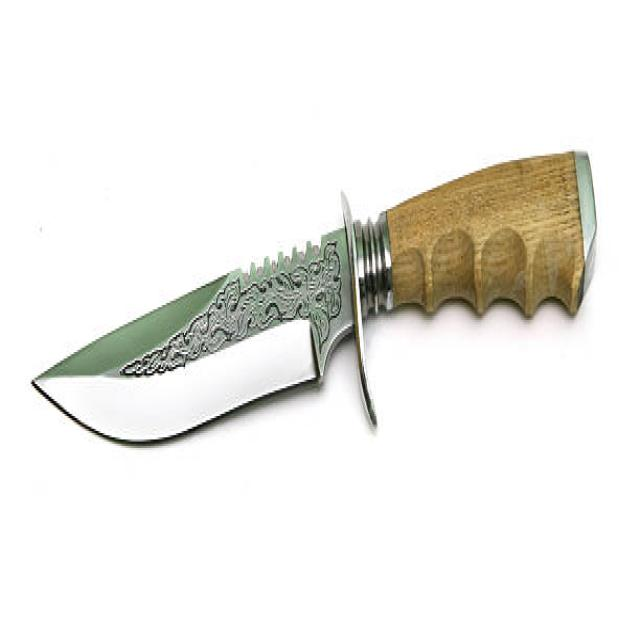knife: (27, 125, 601, 495)
